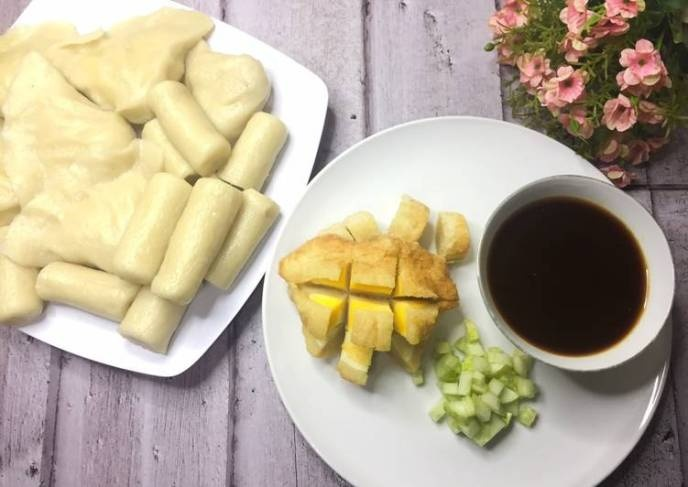pempek: (279, 197, 473, 382)
